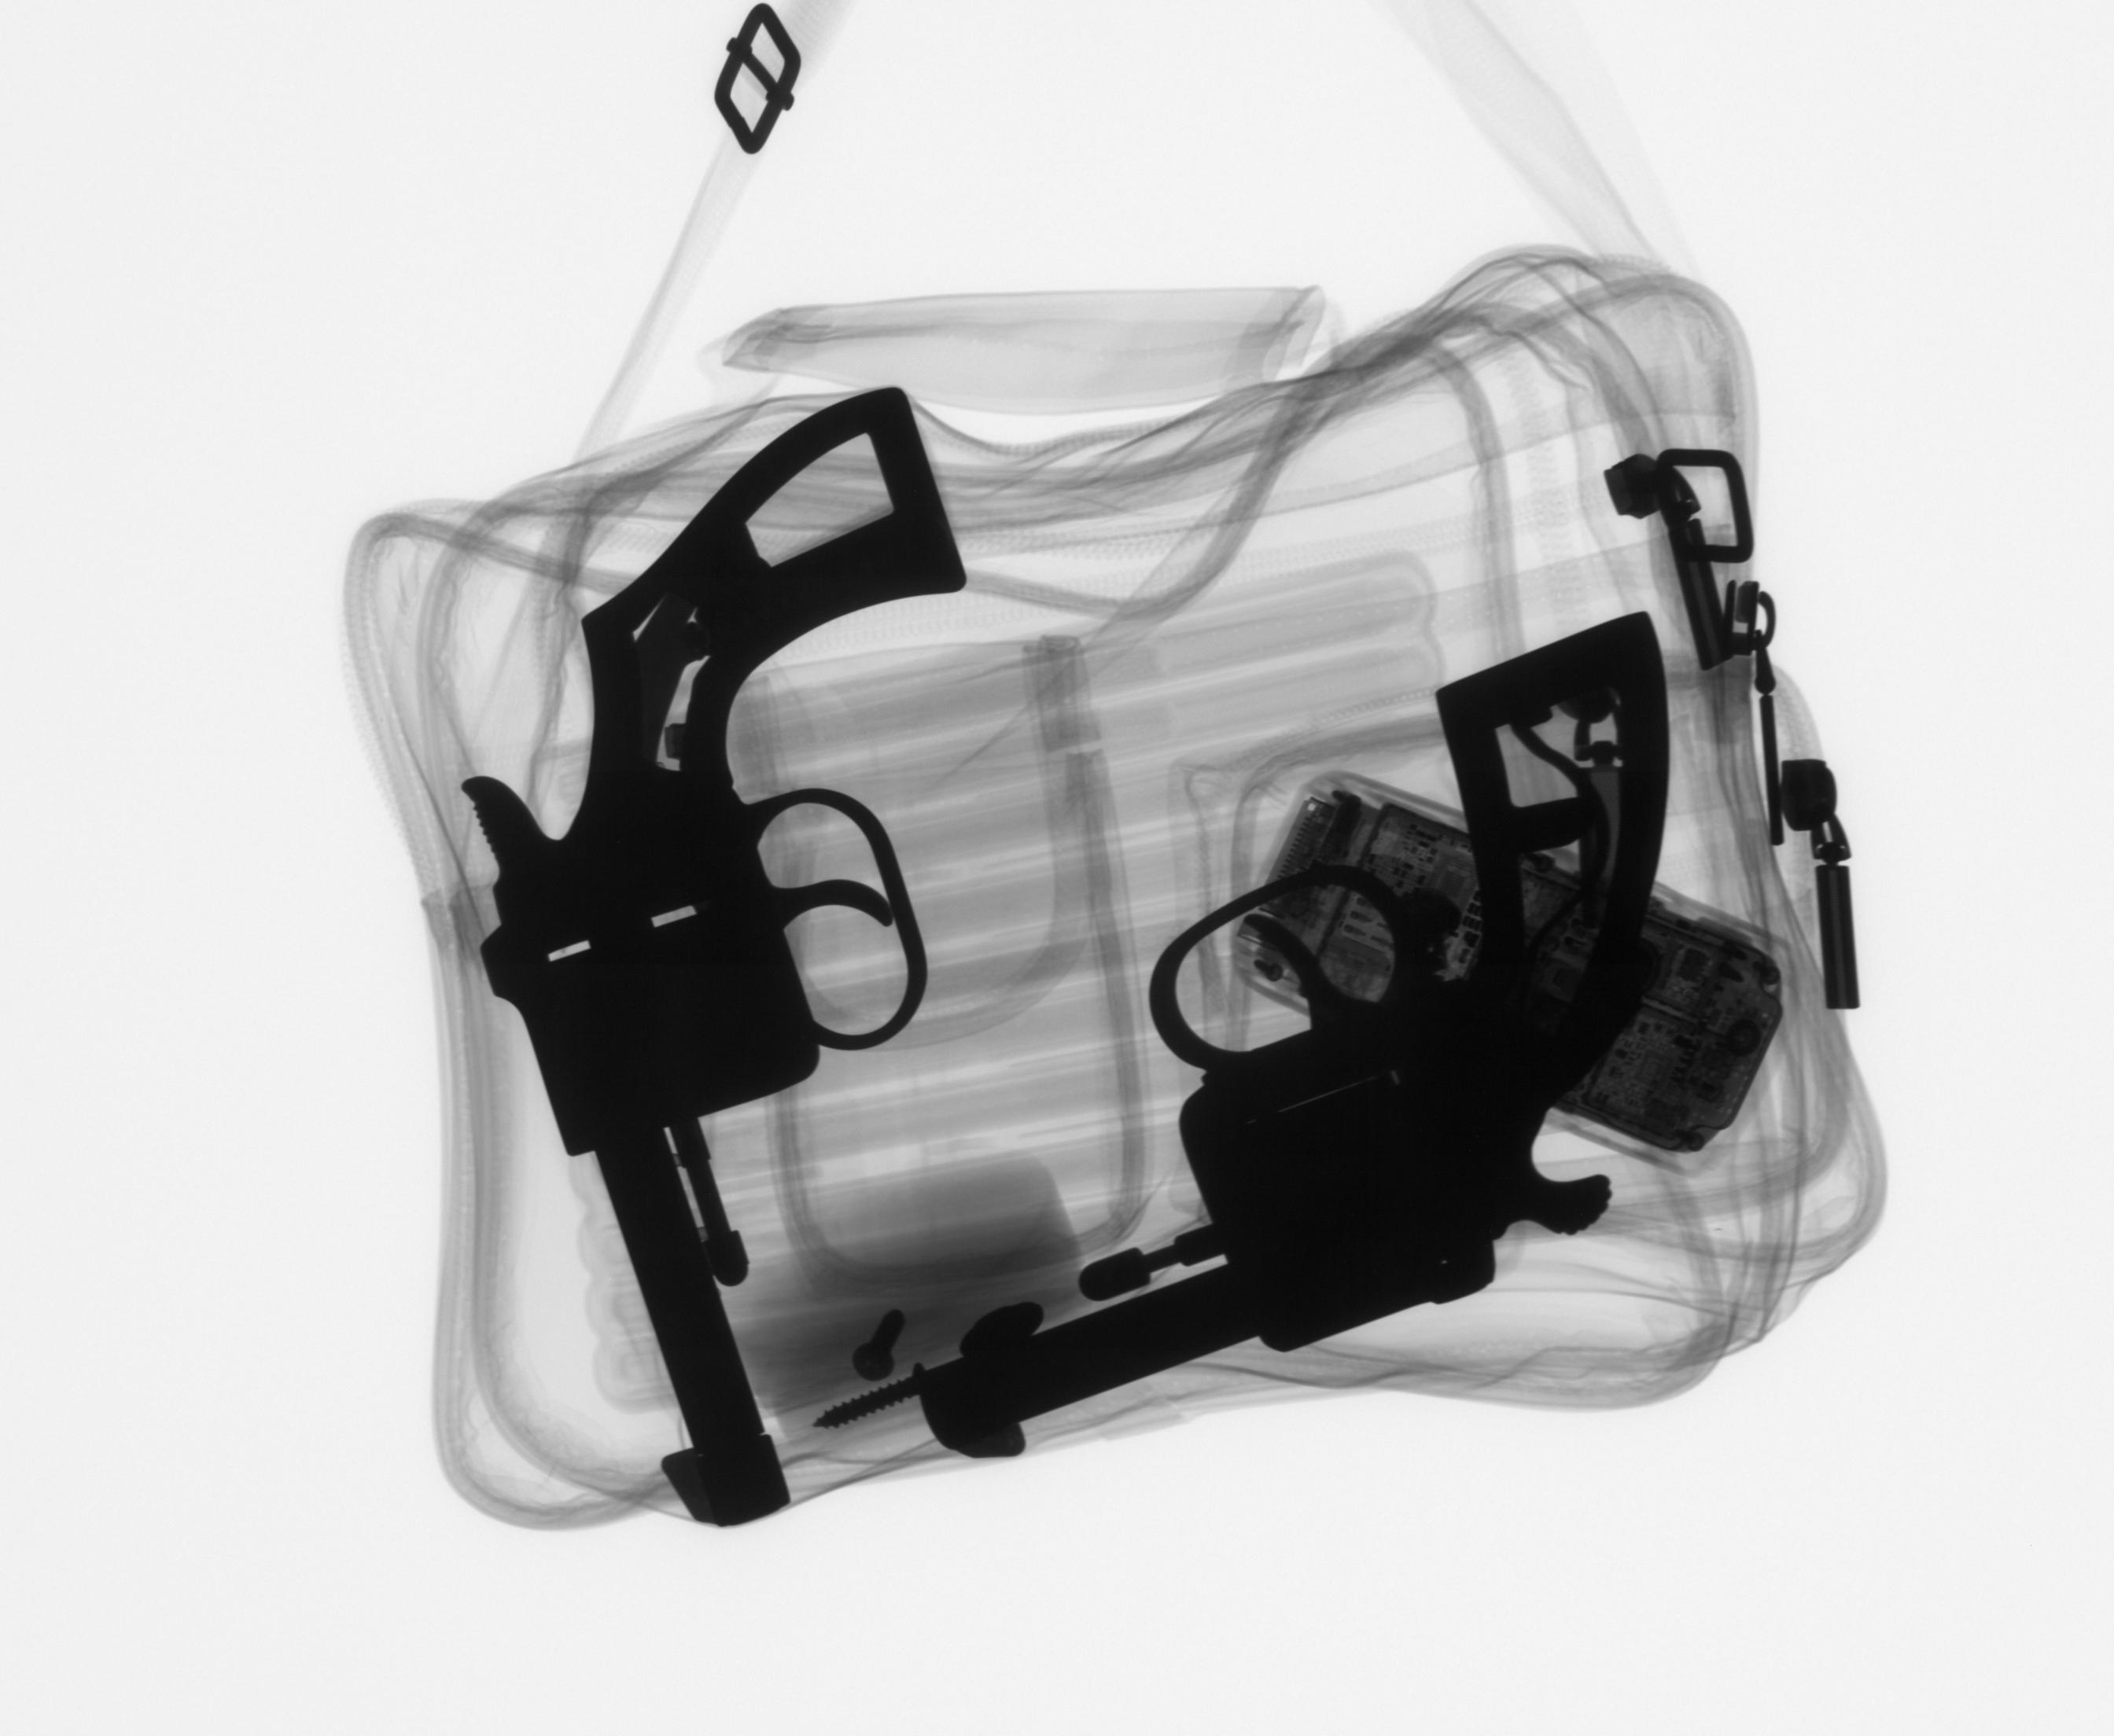Handgun: (900, 598, 1677, 1474), (450, 374, 979, 1536)
